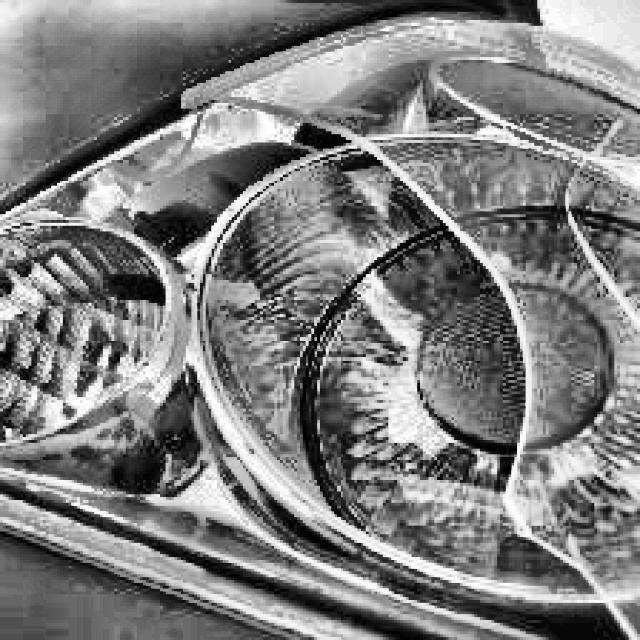tail_lamp: (14, 116, 578, 626)
